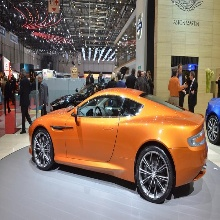no damage: (27, 86, 210, 204)
